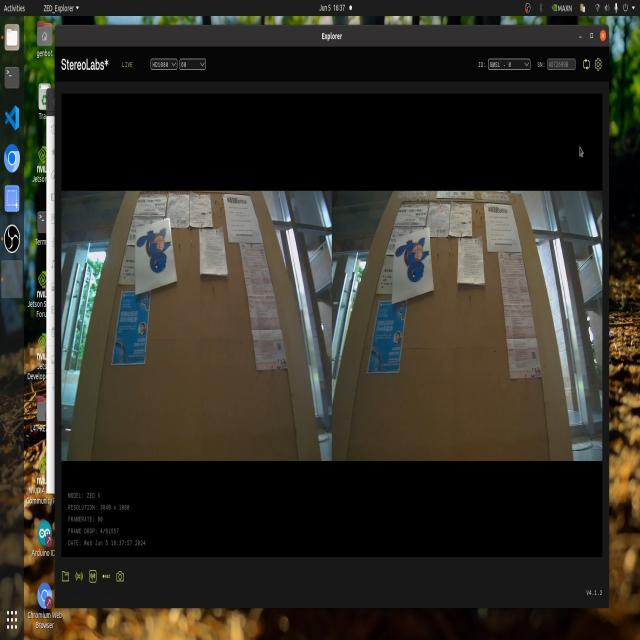blue: (391, 233, 435, 284), (139, 222, 174, 277)
